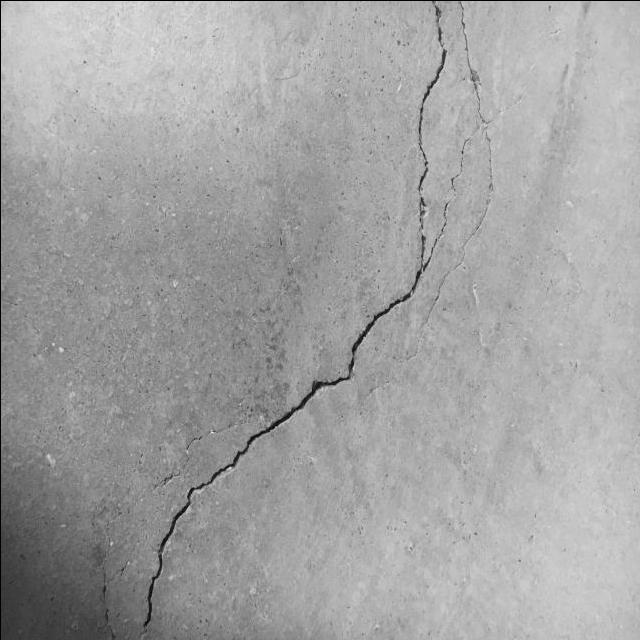SurfaceCrack: (94, 1, 498, 640)
